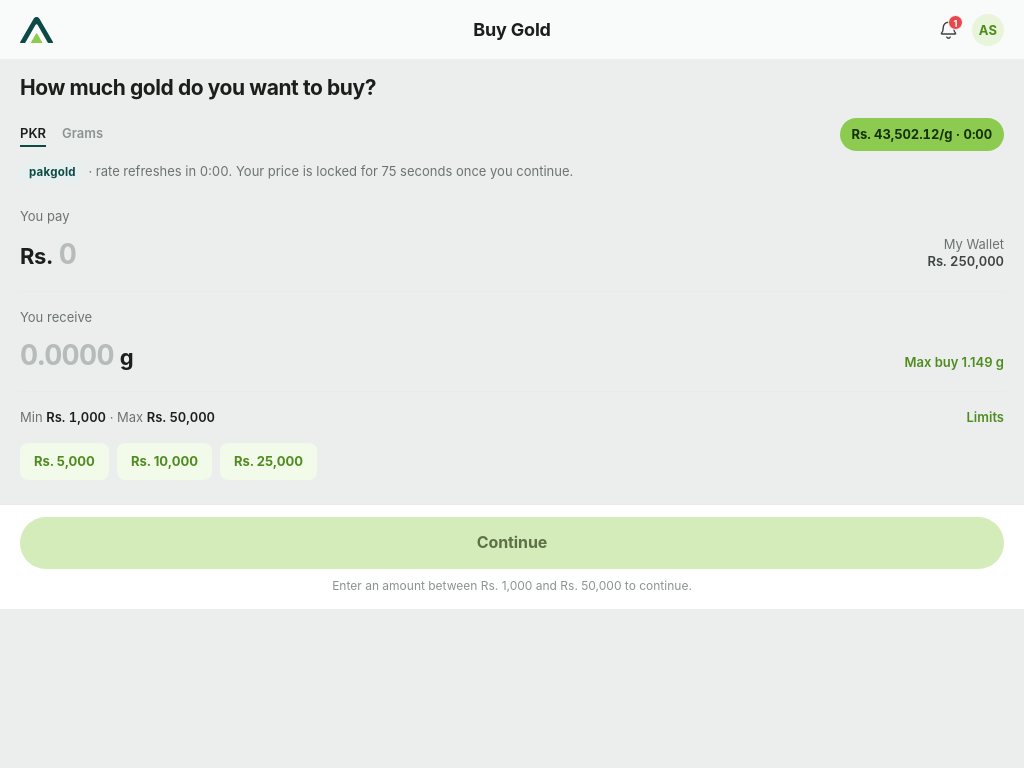
amount entry converts in both directions › derives PKR from a gram amount at the same price
Click the button "Grams" at (83, 134), box [62,122,103,147]
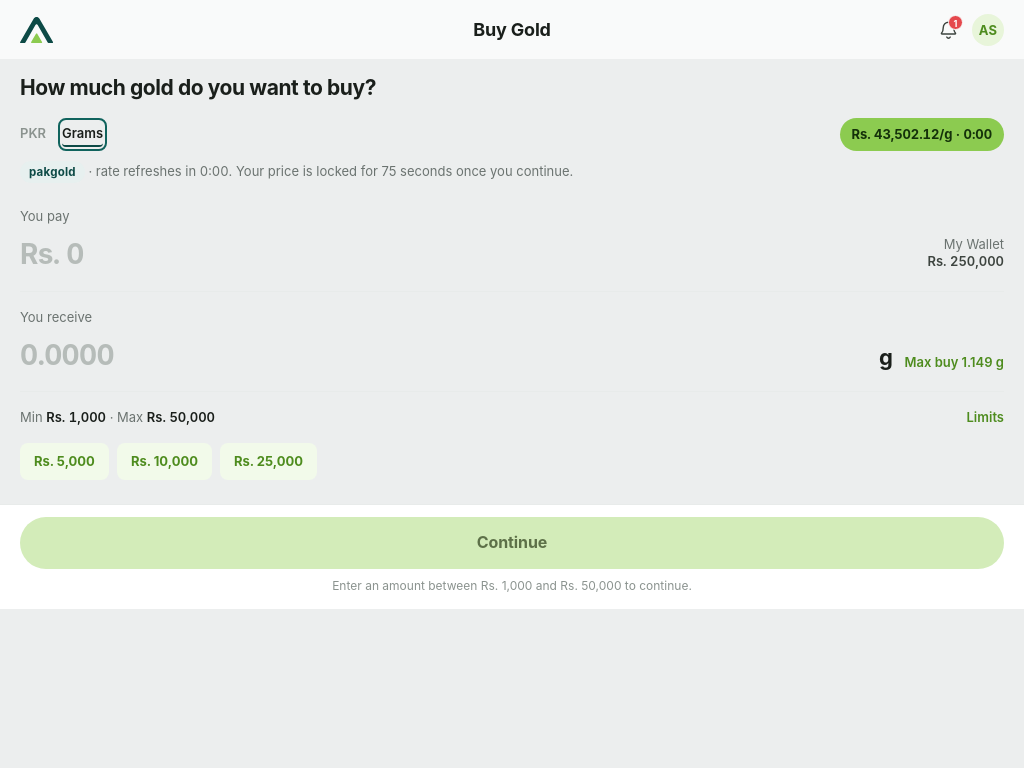
Type "2" into the field named "You receive in grams" at (446, 355), box [20,335,873,375]
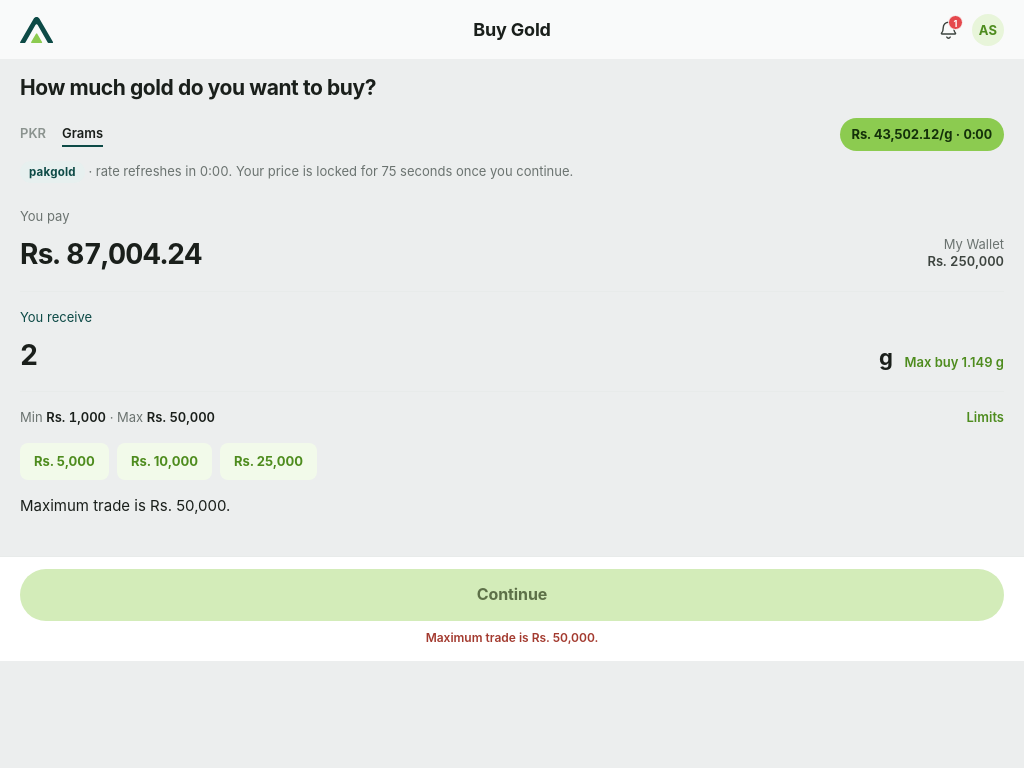
Check: the text named "You pay, converted" shows "87,004.24", box [66,237,202,271]
